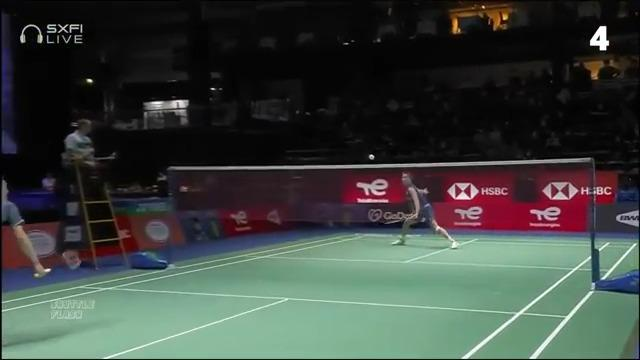Shuttlecock: (364, 152, 378, 162)
